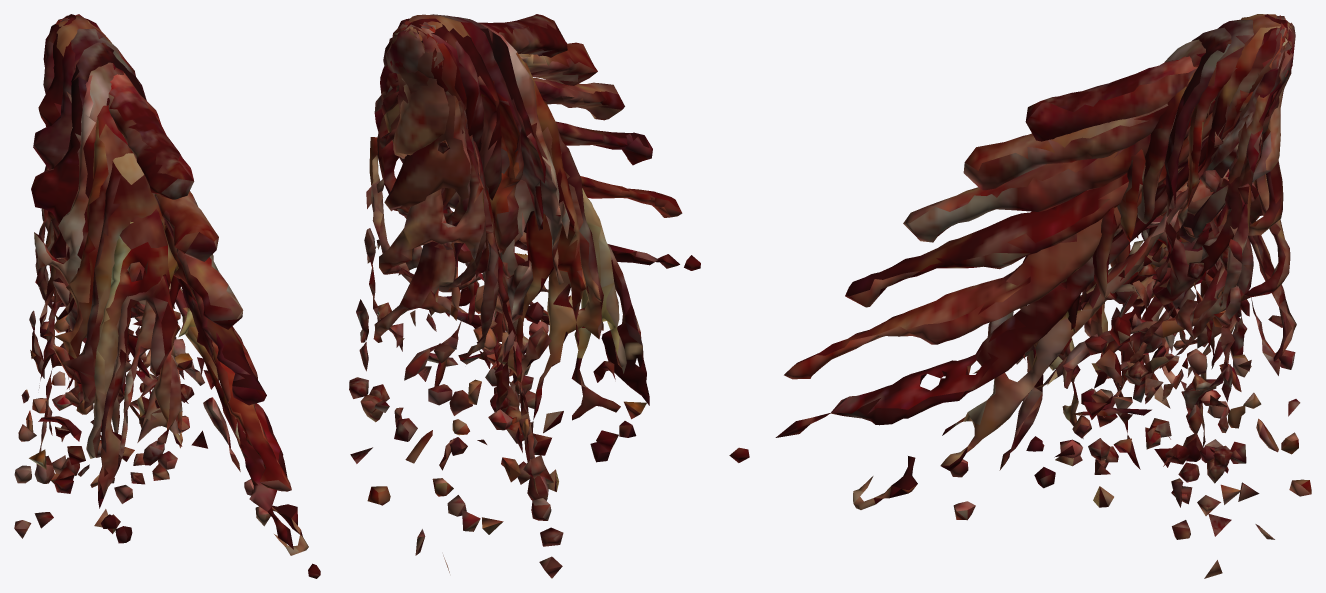
The model's file is Blood_07.fbx.
3 views of the same model, side by side, from view 1: azimuth 30°, elevation 25°; view 2: azimuth 150°, elevation 25°; view 3: azimuth 270°, elevation 25° (orthographic). The views are drawn at different scales.
Parts seen in each view (by area): view 1: LOD_1_Group_12_Sub_1__lambert2, LOD_1_Group_11_Sub_1__lambert2, LOD_1_Group_8_Sub_1__lambert2, LOD_1_Group_13_Sub_1__lambert2, LOD_1_Group_9_Sub_1__lambert2, LOD_1_Group_7_Sub_1__lambert2, LOD_1_Group_10_Sub_1__lambert2, LOD_1_Group_0_Sub_1__lambert2, LOD_1_Group_6_Sub_1__lambert2, LOD_1_Group_5_Sub_1__lambert2, LOD_1_Group_4_Sub_1__lambert2, LOD_1_Group_14_Sub_1__lambert2 (+13 smaller); view 2: LOD_1_Group_11_Sub_1__lambert2, LOD_1_Group_10_Sub_1__lambert2, LOD_1_Group_16_Sub_1__lambert2, LOD_1_Group_19_Sub_1__lambert2, LOD_1_Group_17_Sub_1__lambert2, LOD_1_Group_9_Sub_1__lambert2, LOD_1_Group_15_Sub_1__lambert2, LOD_1_Group_7_Sub_1__lambert2, LOD_1_Group_20_Sub_1__lambert2, LOD_1_Group_8_Sub_1__lambert2, LOD_1_Group_12_Sub_1__lambert2, LOD_1_Group_13_Sub_1__lambert2 (+13 smaller); view 3: LOD_1_Group_5_Sub_1__lambert2, LOD_1_Group_4_Sub_1__lambert2, LOD_1_Group_6_Sub_1__lambert2, LOD_1_Group_3_Sub_1__lambert2, LOD_1_Group_2_Sub_1__lambert2, LOD_1_Group_7_Sub_1__lambert2, LOD_1_Group_0_Sub_1__lambert2, LOD_1_Group_1_Sub_1__lambert2, LOD_1_Group_20_Sub_1__lambert2, LOD_1_Group_19_Sub_1__lambert2, LOD_1_Group_8_Sub_1__lambert2, LOD_1_Group_21_Sub_1__lambert2 (+13 smaller).
Part boxes in pixels (<box>): LOD_1_Group_12_Sub_1__lambert2: <box>29,209,195,533</box>; LOD_1_Group_11_Sub_1__lambert2: <box>38,153,218,493</box>; LOD_1_Group_8_Sub_1__lambert2: <box>31,42,184,461</box>; LOD_1_Group_13_Sub_1__lambert2: <box>98,262,204,543</box>; LOD_1_Group_9_Sub_1__lambert2: <box>34,62,144,438</box>; LOD_1_Group_7_Sub_1__lambert2: <box>33,16,270,526</box>; LOD_1_Group_10_Sub_1__lambert2: <box>43,105,188,480</box>; LOD_1_Group_0_Sub_1__lambert2: <box>108,73,194,199</box>; LOD_1_Group_6_Sub_1__lambert2: <box>38,15,308,555</box>; LOD_1_Group_5_Sub_1__lambert2: <box>43,14,320,578</box>; LOD_1_Group_4_Sub_1__lambert2: <box>43,14,291,491</box>; LOD_1_Group_14_Sub_1__lambert2: <box>63,18,181,466</box>; LOD_1_Group_11_Sub_1__lambert2: <box>444,128,618,461</box>; LOD_1_Group_10_Sub_1__lambert2: <box>459,48,589,483</box>; LOD_1_Group_16_Sub_1__lambert2: <box>379,100,548,316</box>; LOD_1_Group_19_Sub_1__lambert2: <box>367,30,530,534</box>; LOD_1_Group_17_Sub_1__lambert2: <box>373,37,501,366</box>; LOD_1_Group_9_Sub_1__lambert2: <box>468,25,569,423</box>; LOD_1_Group_15_Sub_1__lambert2: <box>384,91,526,245</box>; LOD_1_Group_7_Sub_1__lambert2: <box>400,14,548,394</box>; LOD_1_Group_20_Sub_1__lambert2: <box>374,60,551,555</box>; LOD_1_Group_8_Sub_1__lambert2: <box>447,16,545,424</box>; LOD_1_Group_12_Sub_1__lambert2: <box>514,188,646,491</box>; LOD_1_Group_13_Sub_1__lambert2: <box>392,28,649,462</box>; LOD_1_Group_5_Sub_1__lambert2: <box>729,14,1291,462</box>; LOD_1_Group_4_Sub_1__lambert2: <box>784,15,1287,379</box>; LOD_1_Group_6_Sub_1__lambert2: <box>853,14,1280,509</box>; LOD_1_Group_3_Sub_1__lambert2: <box>845,21,1290,307</box>; LOD_1_Group_2_Sub_1__lambert2: <box>903,26,1291,242</box>; LOD_1_Group_7_Sub_1__lambert2: <box>950,16,1286,520</box>; LOD_1_Group_0_Sub_1__lambert2: <box>1025,56,1197,141</box>; LOD_1_Group_1_Sub_1__lambert2: <box>963,103,1168,190</box>; LOD_1_Group_20_Sub_1__lambert2: <box>1152,62,1292,539</box>; LOD_1_Group_19_Sub_1__lambert2: <box>1179,22,1311,504</box>; LOD_1_Group_8_Sub_1__lambert2: <box>1081,27,1231,452</box>; LOD_1_Group_21_Sub_1__lambert2: <box>1123,132,1261,578</box>.
Bounding box in the file's own units: 0.0219 × 0.0514 × 0.0489.
